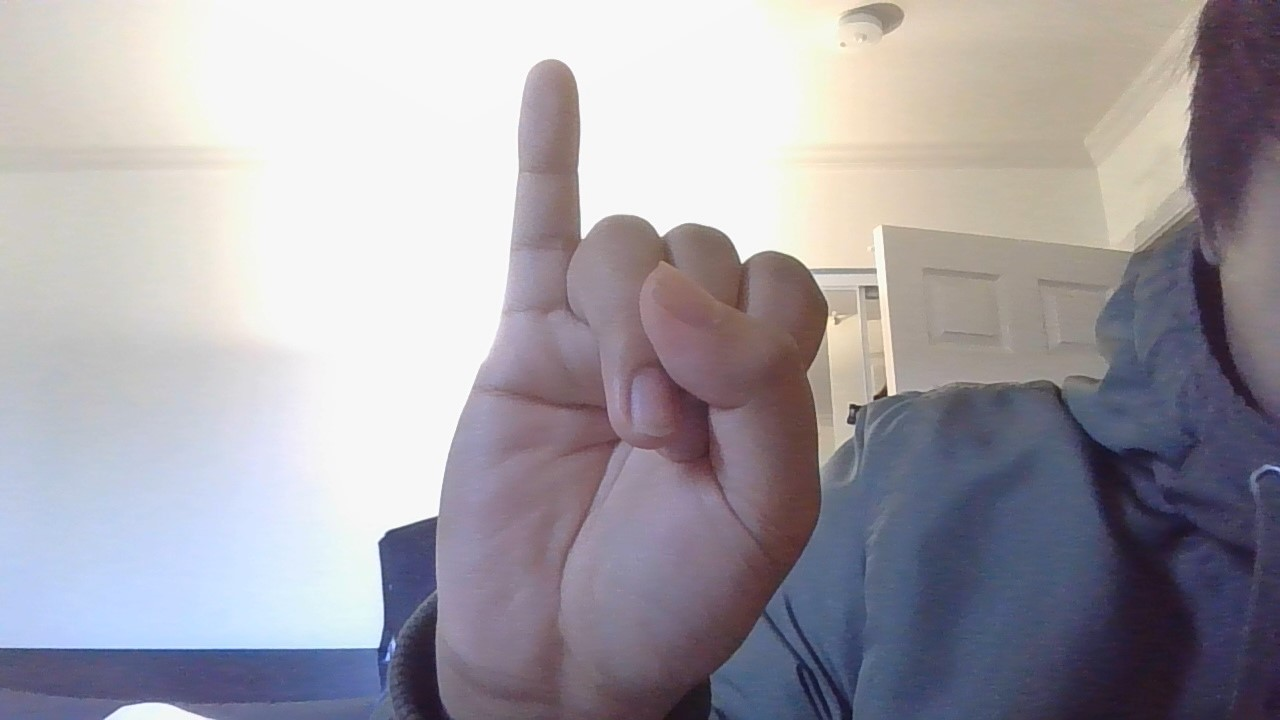i: (388, 32, 854, 720)
